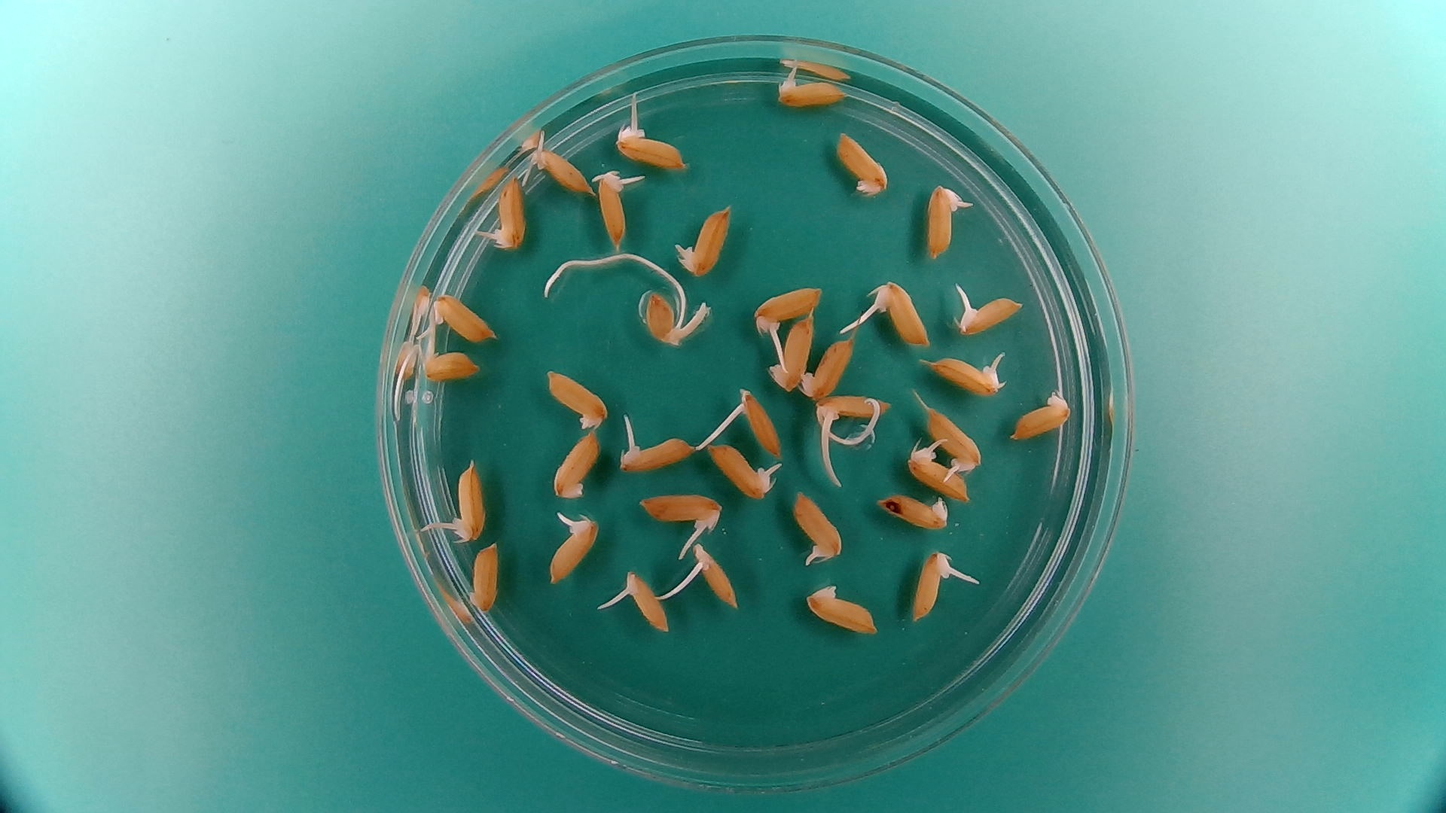no: (541, 366, 609, 431), (549, 426, 605, 502), (834, 127, 892, 195), (767, 312, 816, 391), (804, 586, 879, 637), (1009, 386, 1075, 443), (798, 336, 856, 400), (872, 489, 950, 531), (466, 539, 500, 614)
yes: (789, 487, 846, 567), (905, 439, 975, 504), (635, 488, 726, 537), (924, 403, 984, 475), (706, 440, 776, 501), (613, 120, 688, 172), (874, 281, 932, 348), (550, 510, 597, 587), (738, 382, 785, 457), (754, 281, 827, 329), (431, 292, 503, 340), (931, 350, 1009, 394), (683, 208, 732, 278), (694, 540, 742, 610), (627, 566, 672, 635), (595, 169, 633, 249), (923, 185, 964, 257), (533, 149, 593, 197), (493, 176, 530, 253), (912, 547, 950, 620), (616, 435, 689, 473), (810, 391, 890, 424), (959, 294, 1020, 337), (639, 290, 683, 347), (453, 467, 485, 542), (773, 77, 844, 107), (424, 349, 481, 385)
